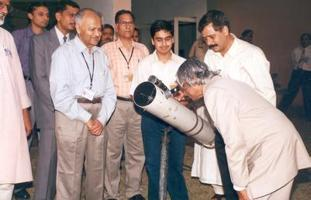person: (178, 58, 310, 200)
